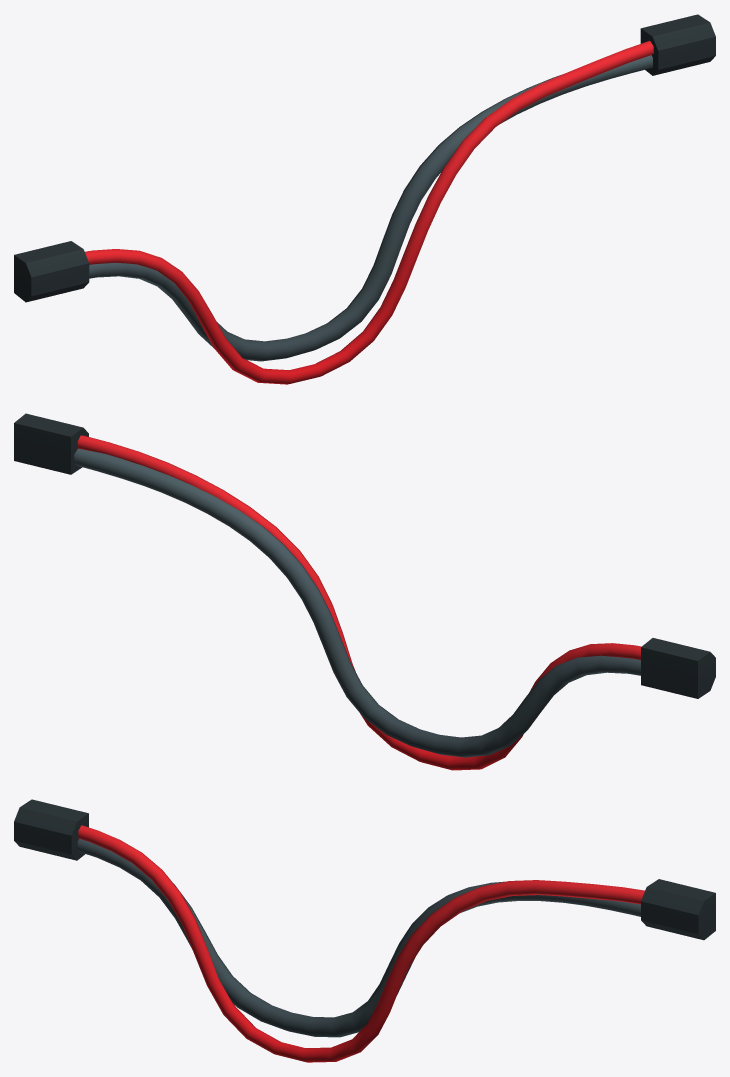
The model's file is Cable_type_A_002.fbx.
3 views of the same model, one above another, from view 1: azimuth 30°, elevation 25°; view 2: azimuth 150°, elevation 25°; view 3: azimuth 330°, elevation 25° (orthographic).
Parts seen in each view (by area): view 1: Cable_type_A_002; view 2: Cable_type_A_002; view 3: Cable_type_A_002.
Part boxes in pixels (box(x1,y1,x2,y2)): Cable_type_A_002: box(14, 14, 715, 384); Cable_type_A_002: box(14, 413, 715, 770); Cable_type_A_002: box(14, 799, 715, 1062).
Bounding box in the file's own units: 185 × 10.32 × 66.24.
